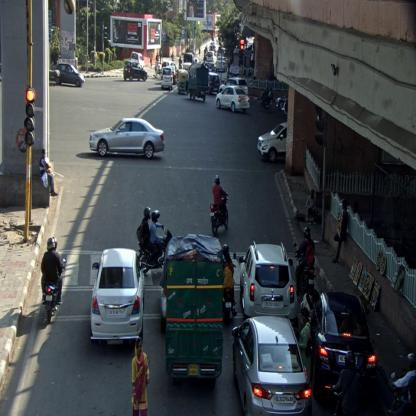car: (231, 317, 313, 415), (310, 292, 377, 399), (90, 246, 146, 350), (239, 240, 299, 323), (89, 116, 165, 160), (256, 120, 287, 166), (216, 85, 249, 114), (54, 62, 86, 88), (219, 76, 248, 96), (123, 61, 147, 83), (208, 70, 219, 96), (162, 66, 173, 90), (130, 51, 145, 68), (216, 56, 229, 73), (206, 52, 216, 63)
motorcycle: (136, 206, 174, 274), (42, 237, 66, 325), (294, 228, 317, 298), (391, 351, 415, 415), (222, 242, 237, 321), (210, 174, 229, 236), (259, 86, 274, 112)
truck: (164, 234, 224, 390), (186, 62, 208, 102)
